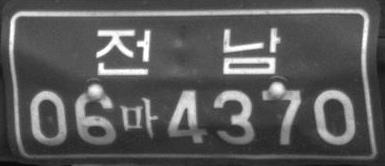0: (312, 88, 356, 145), (29, 88, 67, 146)
3: (213, 88, 256, 144)
4: (167, 89, 208, 144)
6: (74, 91, 116, 145)
7: (261, 89, 302, 145)
마: (119, 96, 157, 139)
전남_D: (95, 27, 280, 75)
